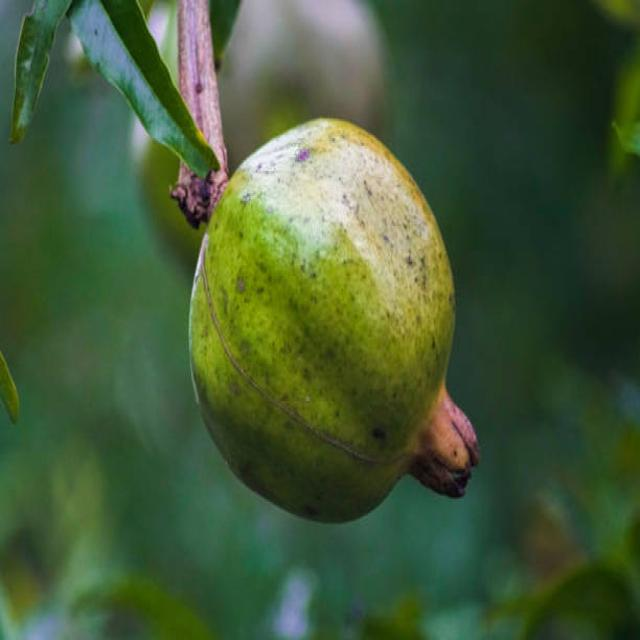Unripe: (186, 114, 478, 524)
